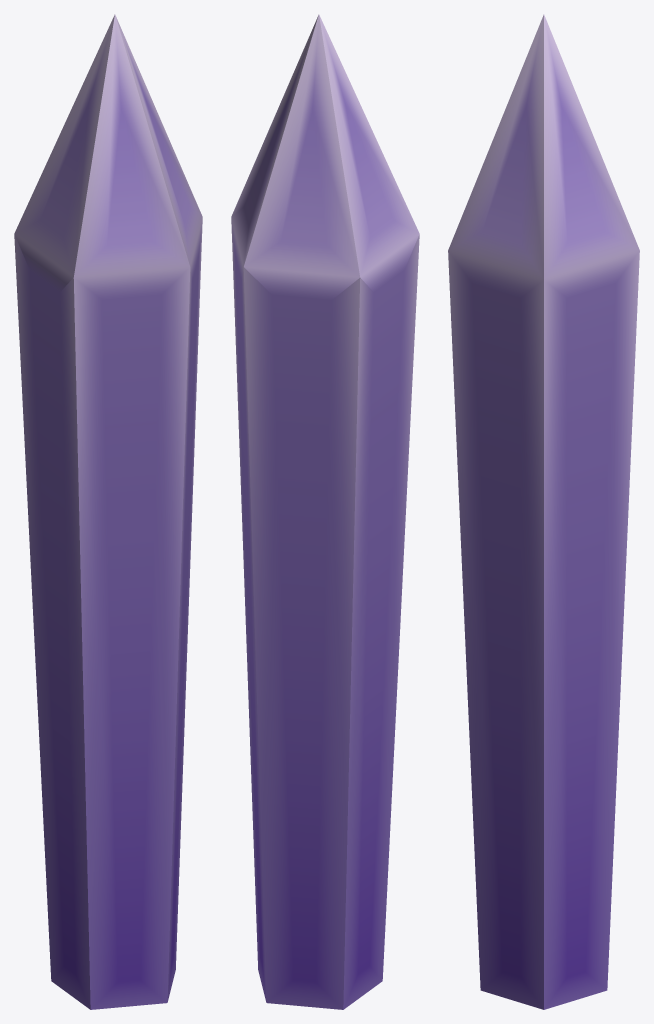
The model's file is Prop_Crystals_Purple.fbx.
3 renders of one model, left to right at view 1: azimuth 30°, elevation 25°; view 2: azimuth 150°, elevation 25°; view 3: azimuth 270°, elevation 25°, orthographic.
Parts seen in each view (by area): view 1: Prop_Crystals_Purple; view 2: Prop_Crystals_Purple; view 3: Prop_Crystals_Purple.
Boxes of the visible parts, x1=… form: Prop_Crystals_Purple: x1=14, y1=14, x2=202, y2=1009; Prop_Crystals_Purple: x1=231, y1=14, x2=419, y2=1009; Prop_Crystals_Purple: x1=448, y1=14, x2=639, y2=1009.
Bounding box in the file's own units: 20.56 × 120 × 21.62.
Materials: 1 (1 with a texture image).
